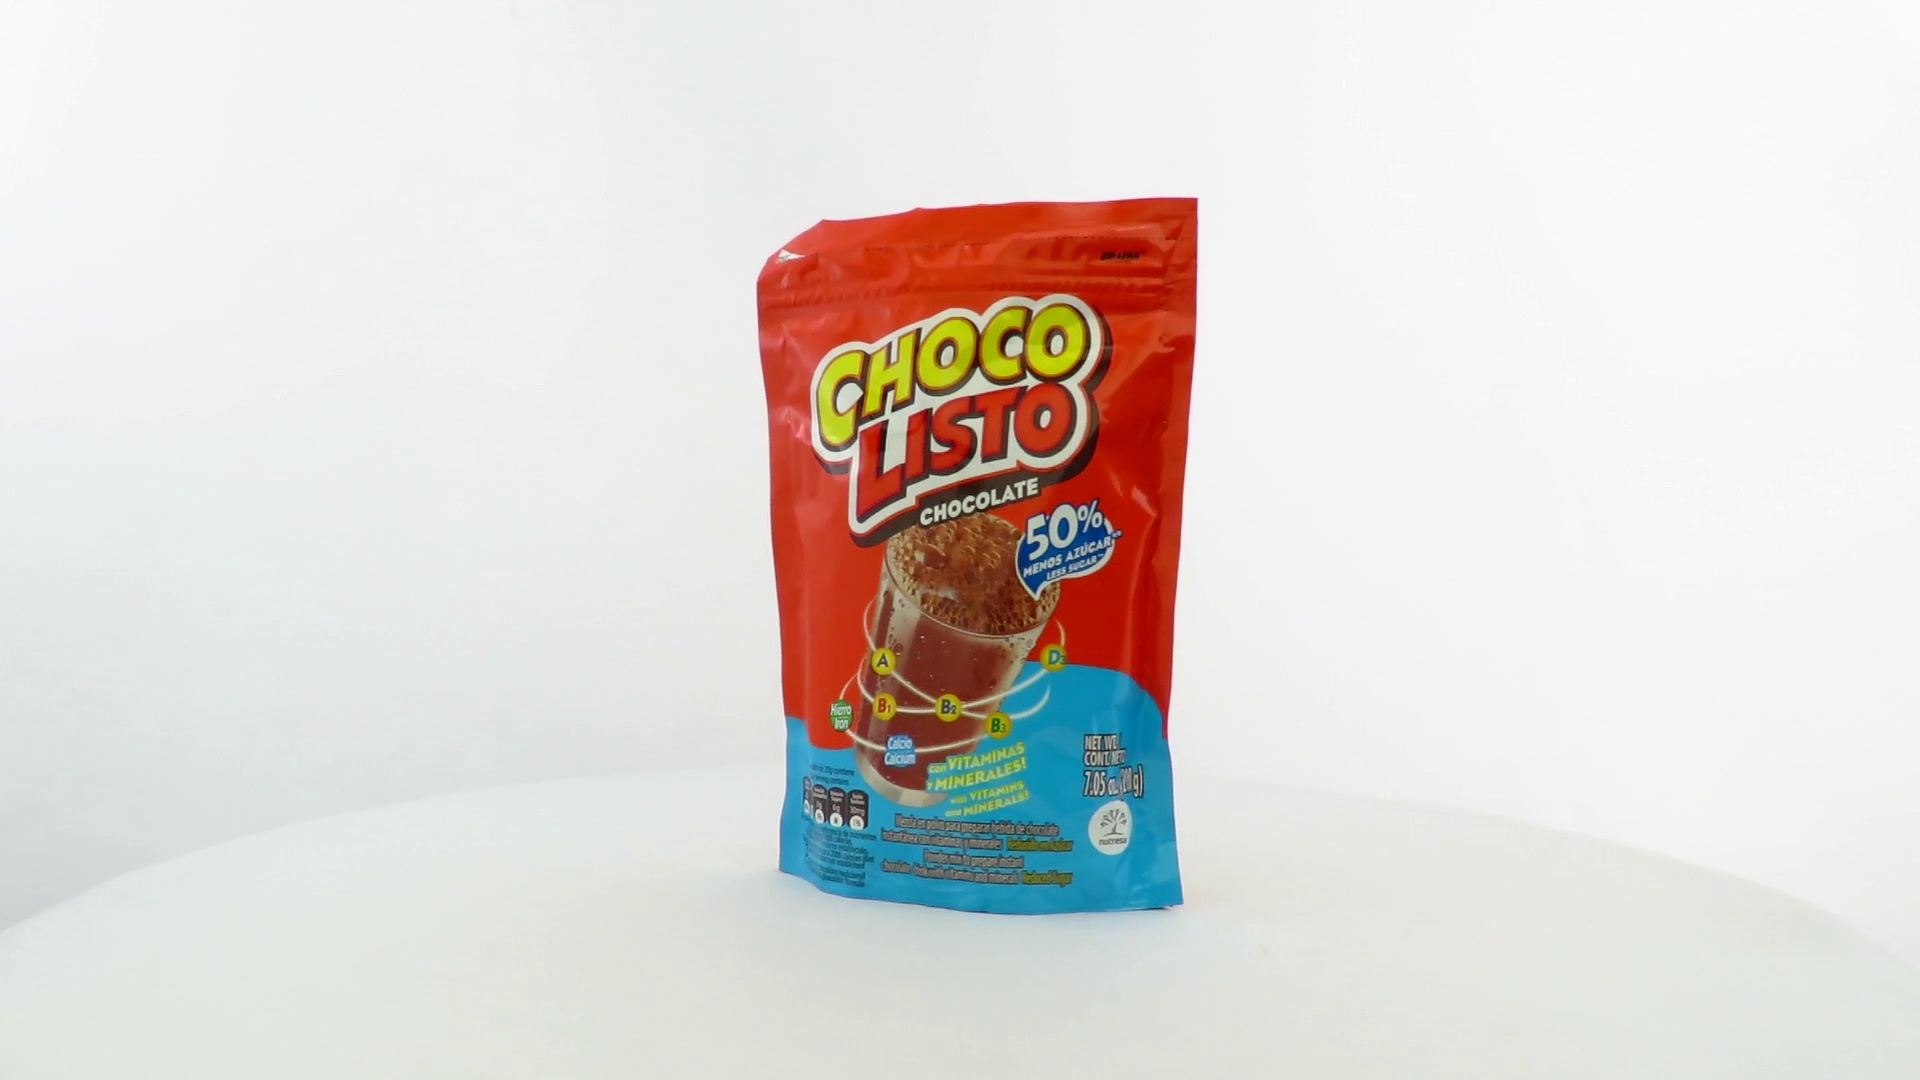COL0170104DYP20000: (752, 193, 1204, 922)
